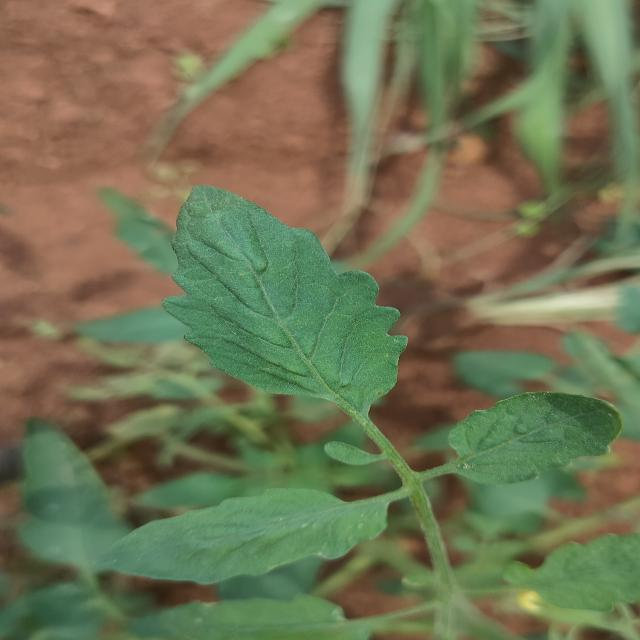tomato_healthy: (151, 178, 406, 419), (89, 490, 408, 586)
